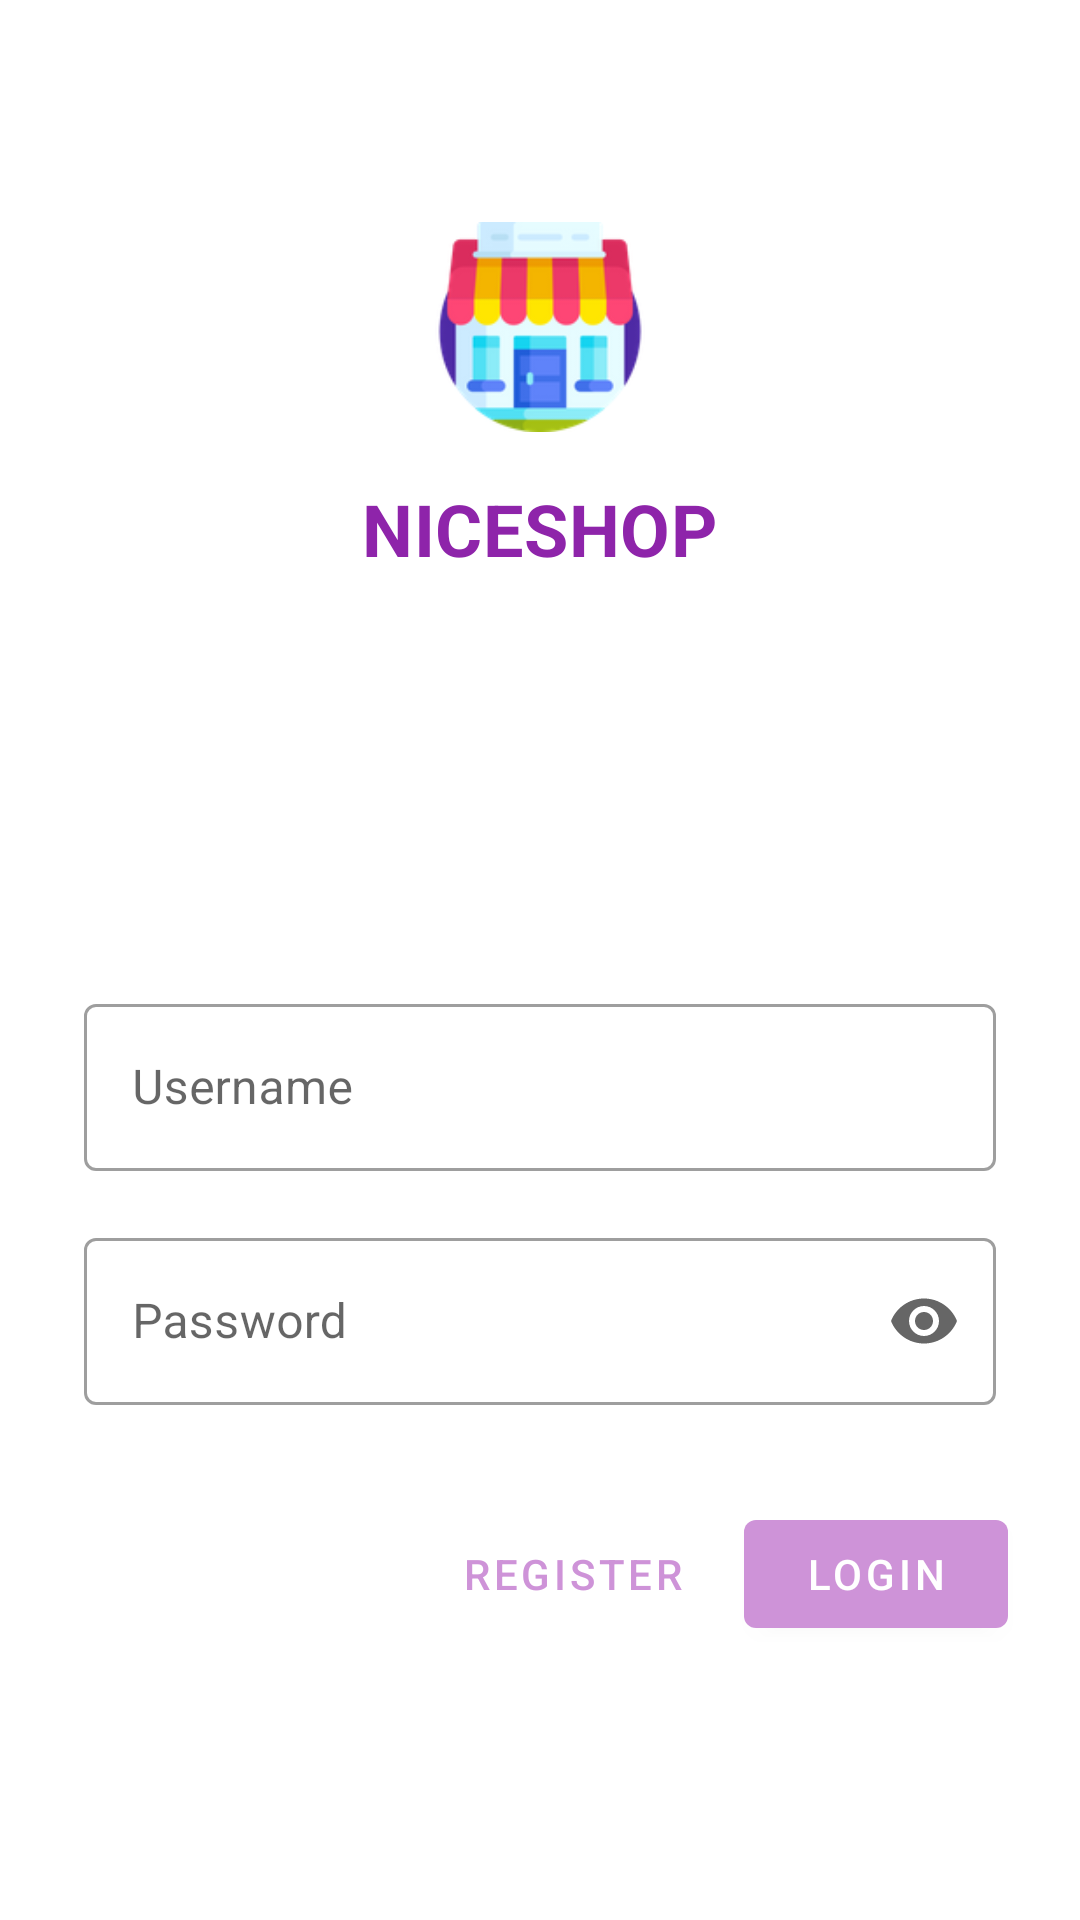

Icons on this 1080x1920 Android screen, each with its box as (x1, y1, x2, y2):
store: (438, 222, 642, 432)
